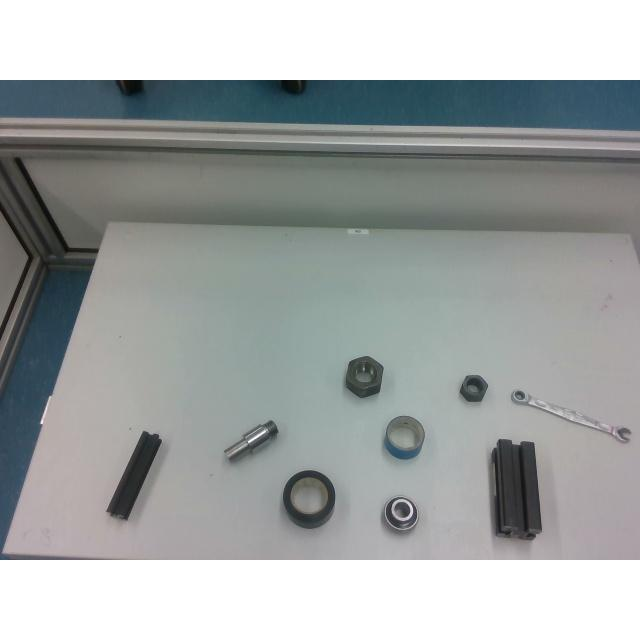Axis2: (224, 419, 276, 459)
Bearing2: (382, 496, 422, 534)
F20_20_B: (108, 430, 164, 522)
M20: (459, 374, 487, 400)
M30: (345, 356, 383, 396)
S40_40_B: (491, 439, 543, 541)
Wrench: (510, 388, 630, 439)
